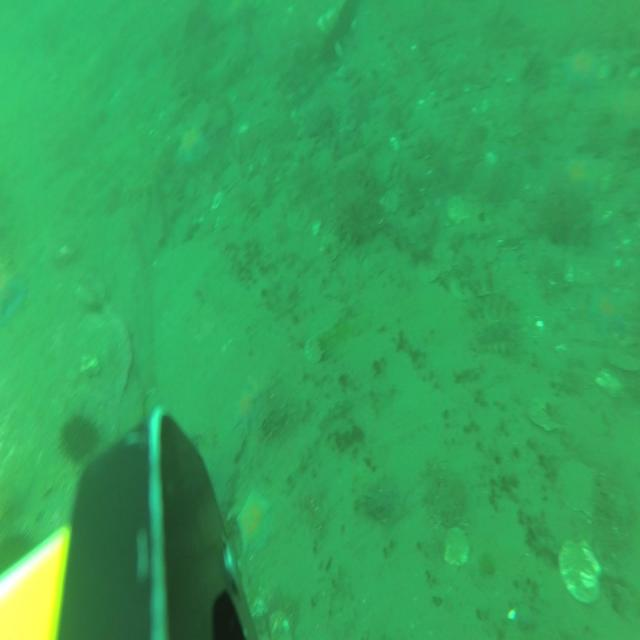echinus: (56, 410, 103, 469)
holothurian: (476, 305, 520, 358)
scallop: (558, 537, 602, 605), (559, 456, 601, 519), (528, 394, 565, 434), (442, 525, 469, 568), (268, 607, 294, 640), (305, 336, 327, 364)
starfish: (237, 488, 273, 560), (562, 150, 599, 200), (565, 45, 601, 94), (590, 288, 626, 335), (0, 270, 26, 328), (178, 125, 210, 171), (234, 388, 259, 439)
